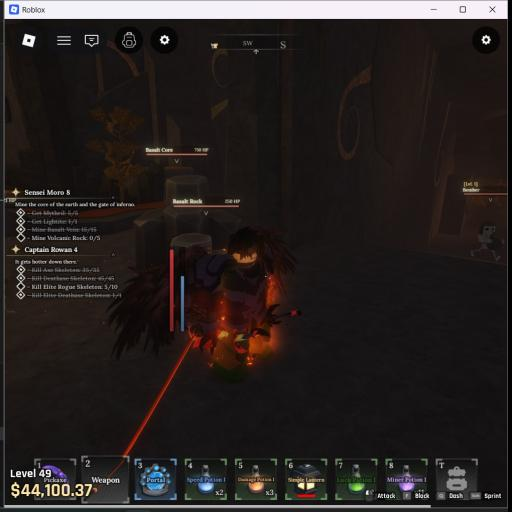player: (186, 227, 296, 381), (114, 272, 160, 316)
rock: (134, 175, 241, 267)
